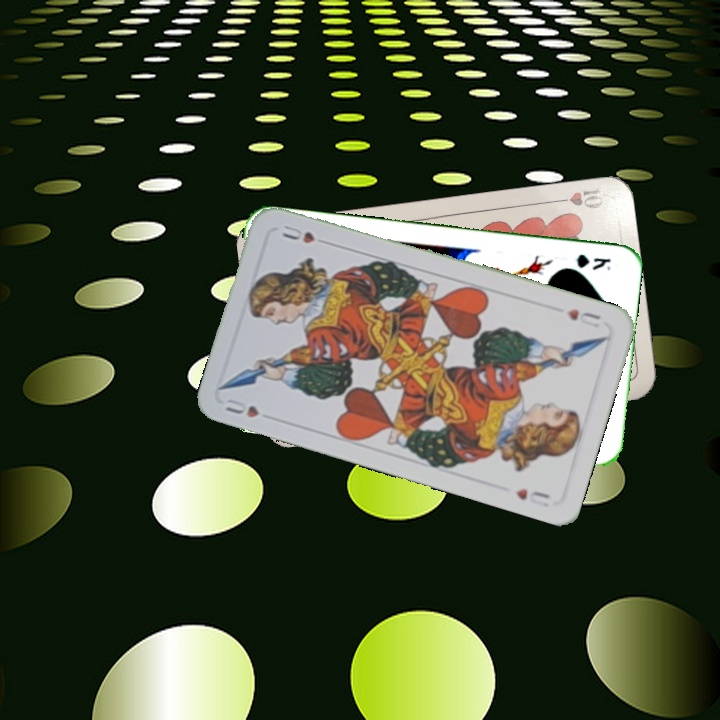GK: (573, 250, 614, 273)
H10: (548, 185, 606, 212)
HU: (562, 304, 603, 331), (221, 394, 262, 420)
